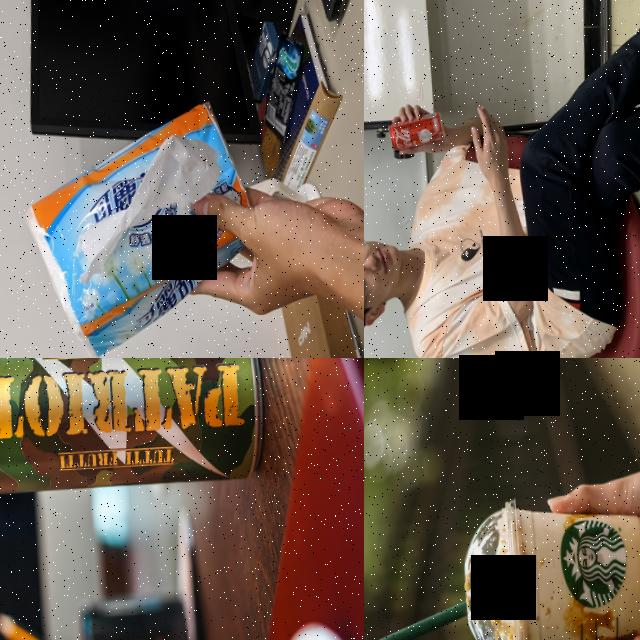can: (0, 358, 271, 503), (387, 108, 447, 152)
cup: (458, 491, 640, 640)
